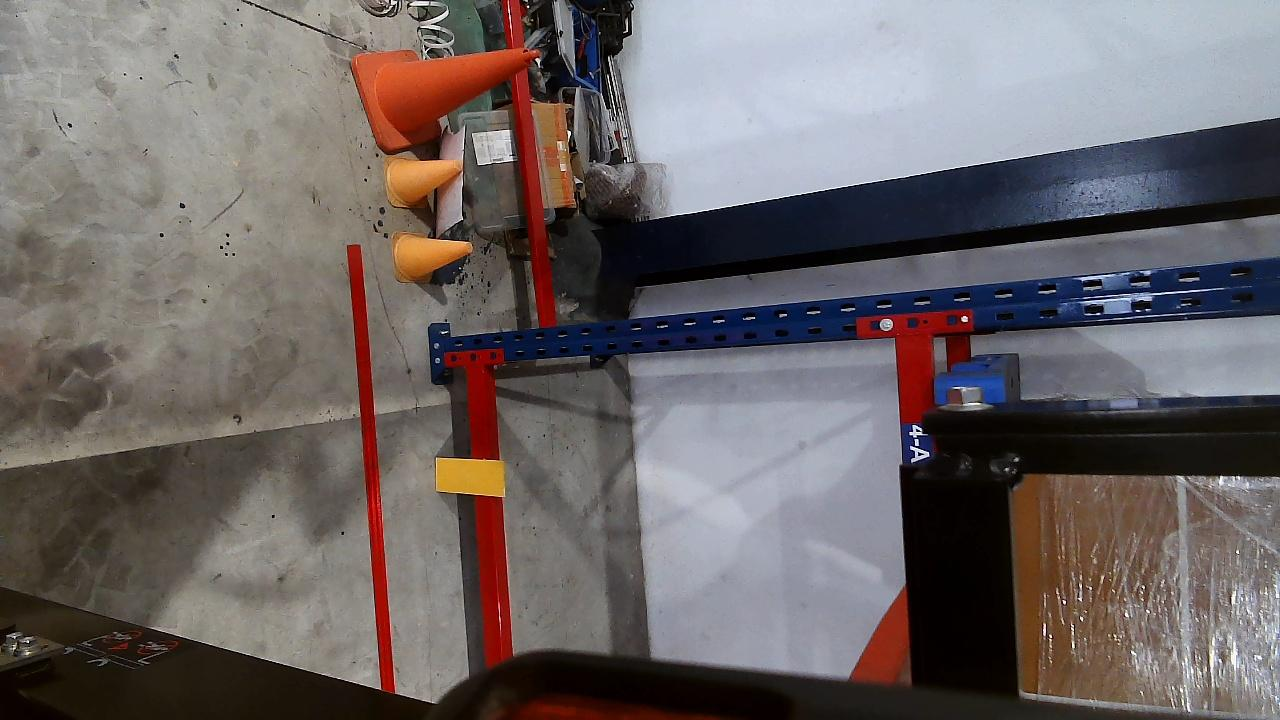h_rack: (466, 366, 508, 668), (894, 333, 934, 467)
orange_strip: (435, 457, 505, 496)
red_line: (346, 248, 393, 687)
